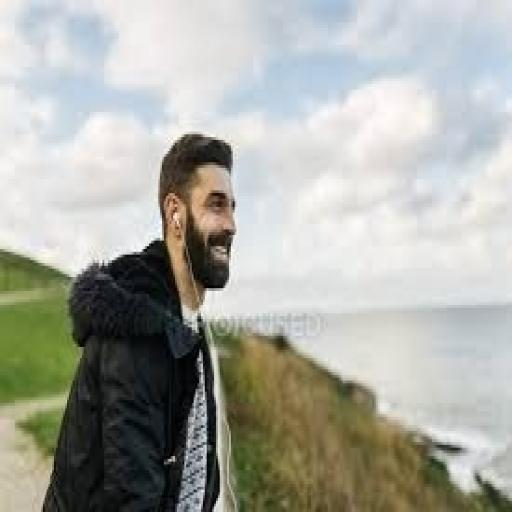listening_to_music: (39, 129, 240, 509)
